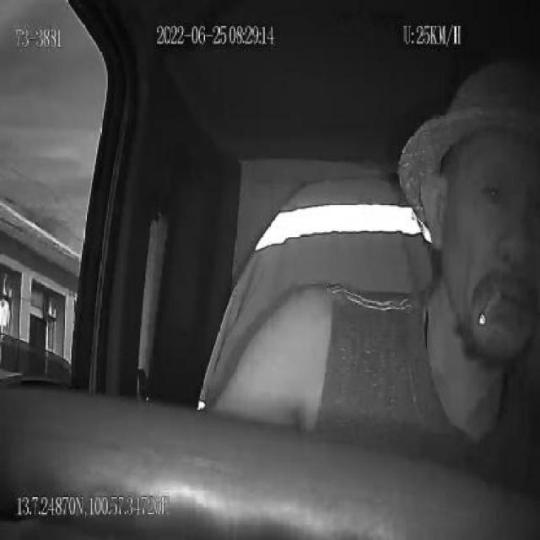smoking: (479, 283, 502, 336)
